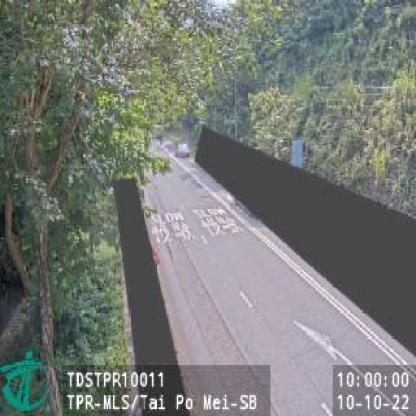Car: (176, 140, 190, 158)
